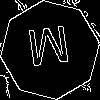M: (25, 25, 73, 76)
